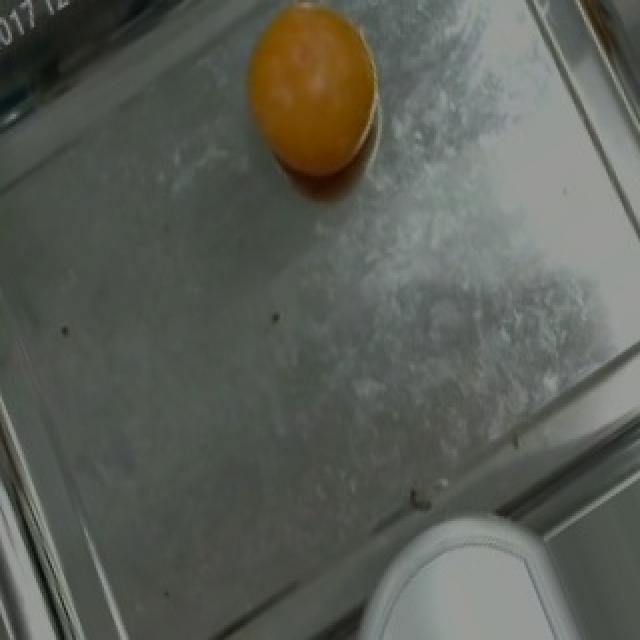Fruit: (226, 0, 400, 198), (362, 511, 574, 640)
